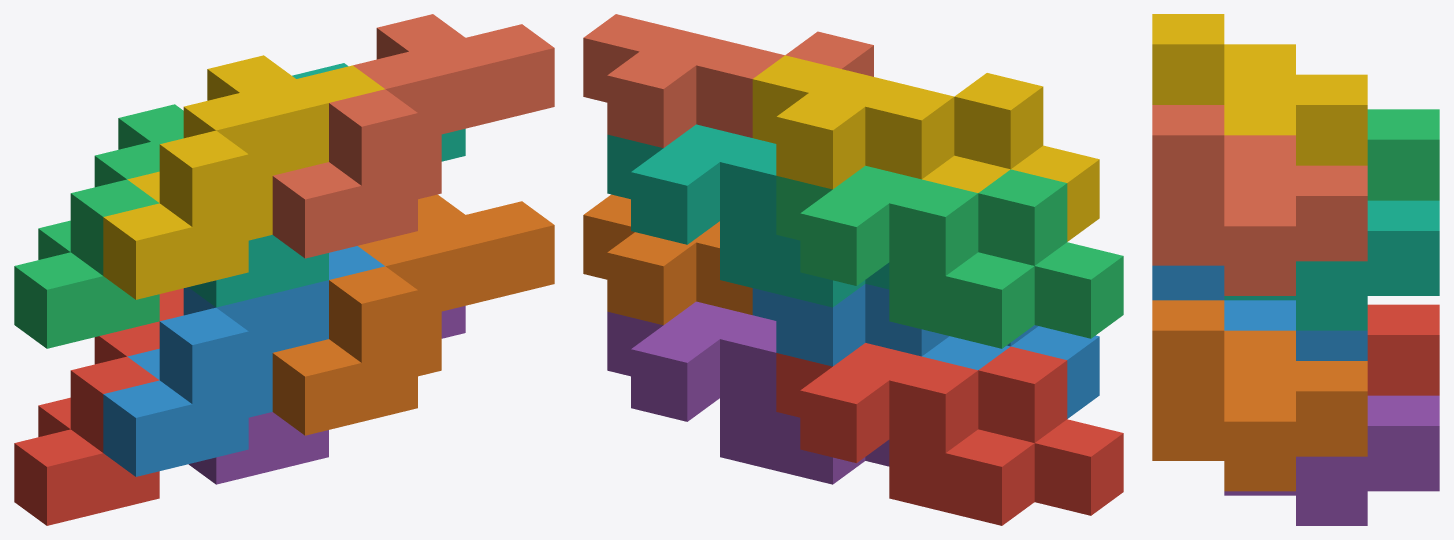
Rendered from tiling.obj.
3 renders of one model, left to right at view 1: azimuth 30°, elevation 25°; view 2: azimuth 150°, elevation 25°; view 3: azimuth 270°, elevation 25°, orthographic. The views are drawn at different scales.
Visible parts, largest first — view 1: copy_1_domain_8, copy_1_domain_6, copy_1_domain_4, copy_1_domain_2, copy_1_domain_3, copy_1_domain_1, copy_1_domain_7, copy_1_domain_5; view 2: copy_1_domain_1, copy_1_domain_3, copy_1_domain_4, copy_1_domain_7, copy_1_domain_5, copy_1_domain_8, copy_1_domain_2, copy_1_domain_6; view 3: copy_1_domain_6, copy_1_domain_8, copy_1_domain_4, copy_1_domain_5, copy_1_domain_7, copy_1_domain_2, copy_1_domain_3, copy_1_domain_1.
Boxes of the visible parts, x1,y1,x2,y2 form: copy_1_domain_8: [272, 14, 554, 258]; copy_1_domain_6: [272, 194, 554, 435]; copy_1_domain_4: [103, 55, 384, 299]; copy_1_domain_2: [103, 246, 384, 476]; copy_1_domain_3: [14, 104, 183, 348]; copy_1_domain_1: [14, 288, 183, 525]; copy_1_domain_7: [188, 63, 465, 307]; copy_1_domain_5: [188, 306, 465, 484]; copy_1_domain_1: [776, 343, 1123, 525]; copy_1_domain_3: [776, 165, 1123, 348]; copy_1_domain_4: [752, 55, 1099, 241]; copy_1_domain_7: [607, 124, 889, 307]; copy_1_domain_5: [607, 301, 889, 484]; copy_1_domain_8: [583, 14, 873, 147]; copy_1_domain_2: [752, 284, 1099, 418]; copy_1_domain_6: [583, 194, 752, 325]; copy_1_domain_6: [1152, 300, 1367, 491]; copy_1_domain_8: [1152, 105, 1367, 295]; copy_1_domain_4: [1152, 14, 1367, 165]; copy_1_domain_5: [1224, 395, 1439, 525]; copy_1_domain_7: [1224, 200, 1439, 330]; copy_1_domain_2: [1152, 265, 1367, 360]; copy_1_domain_3: [1367, 109, 1439, 200]; copy_1_domain_1: [1367, 304, 1439, 395].
Size of the model in its own units: 9 by 6 by 4.
